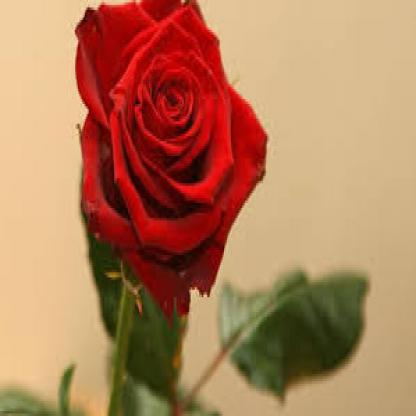Rose-Mawar: (74, 1, 270, 318)
